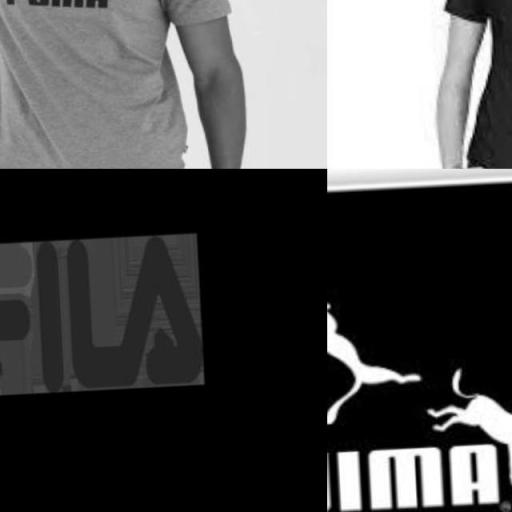Fila: (0, 192, 215, 438)
Puma: (327, 402, 512, 512)
